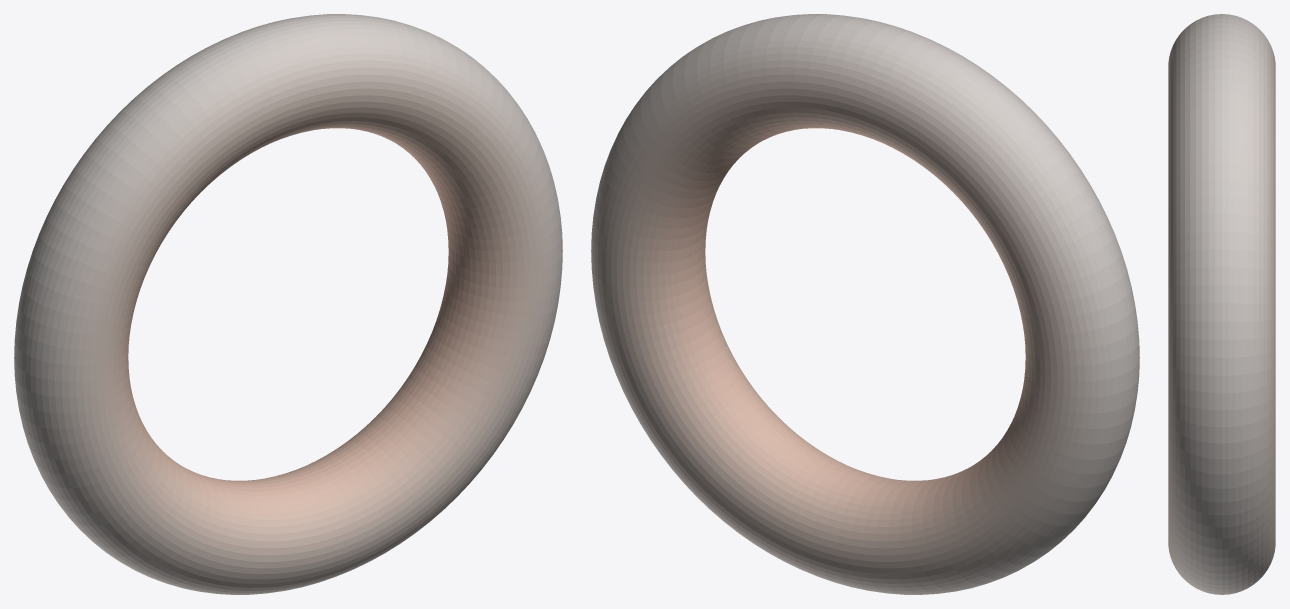
3 views of the same model, side by side, from view 1: azimuth 30°, elevation 25°; view 2: azimuth 150°, elevation 25°; view 3: azimuth 270°, elevation 25° (orthographic). The views are drawn at different scales.
Parts seen in each view (by area): view 1: world; view 2: world; view 3: world.
Part boxes in pixels (box(x1,y1,x2,y2)): world: box(14, 14, 562, 594); world: box(591, 14, 1139, 594); world: box(1168, 14, 1275, 594).
Size of the model in its own units: 29.47 by 29.47 by 5.46.
